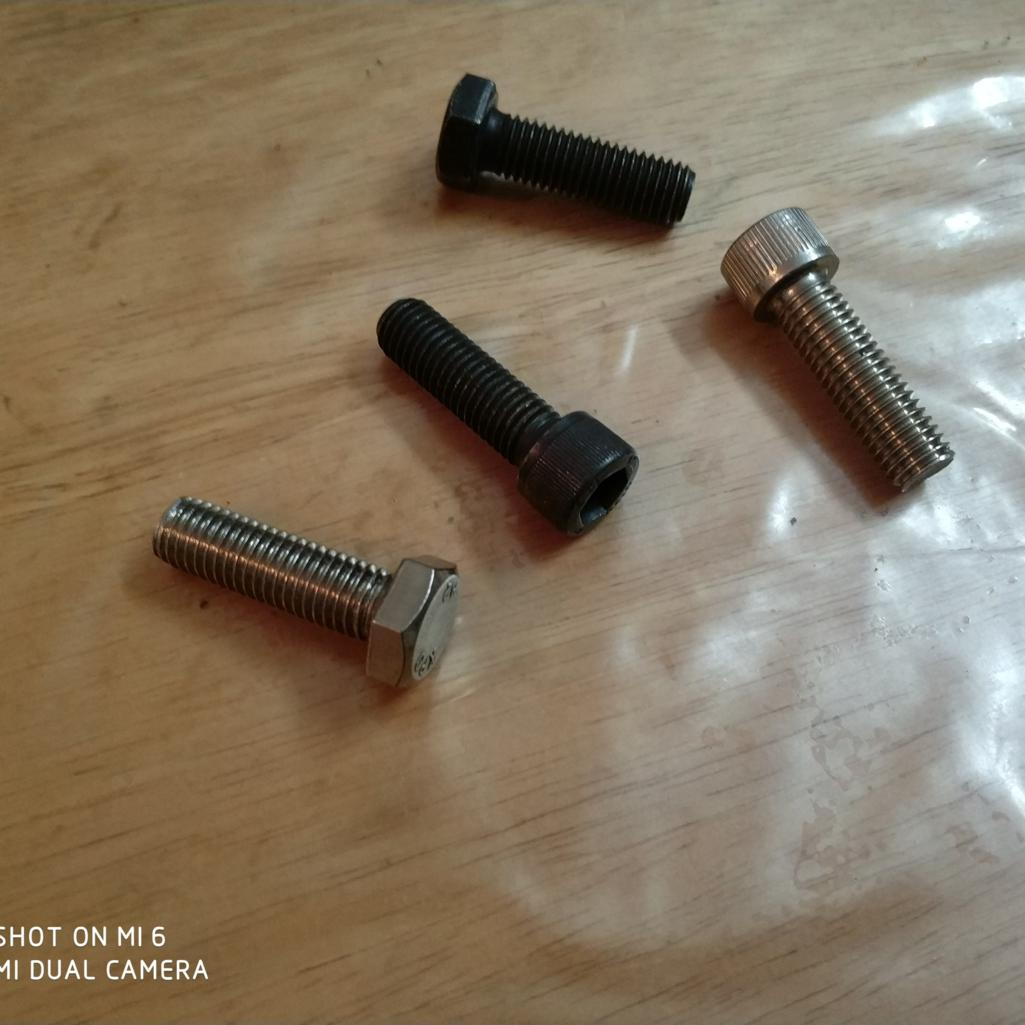screwtype1black: (367, 286, 643, 545)
screwtype1silver: (709, 199, 959, 507)
screwtype2black: (418, 54, 701, 266)
screwtype2silver: (130, 476, 474, 706)
